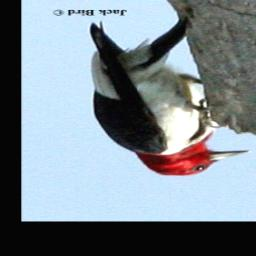Woodpecker: (85, 18, 255, 177)
